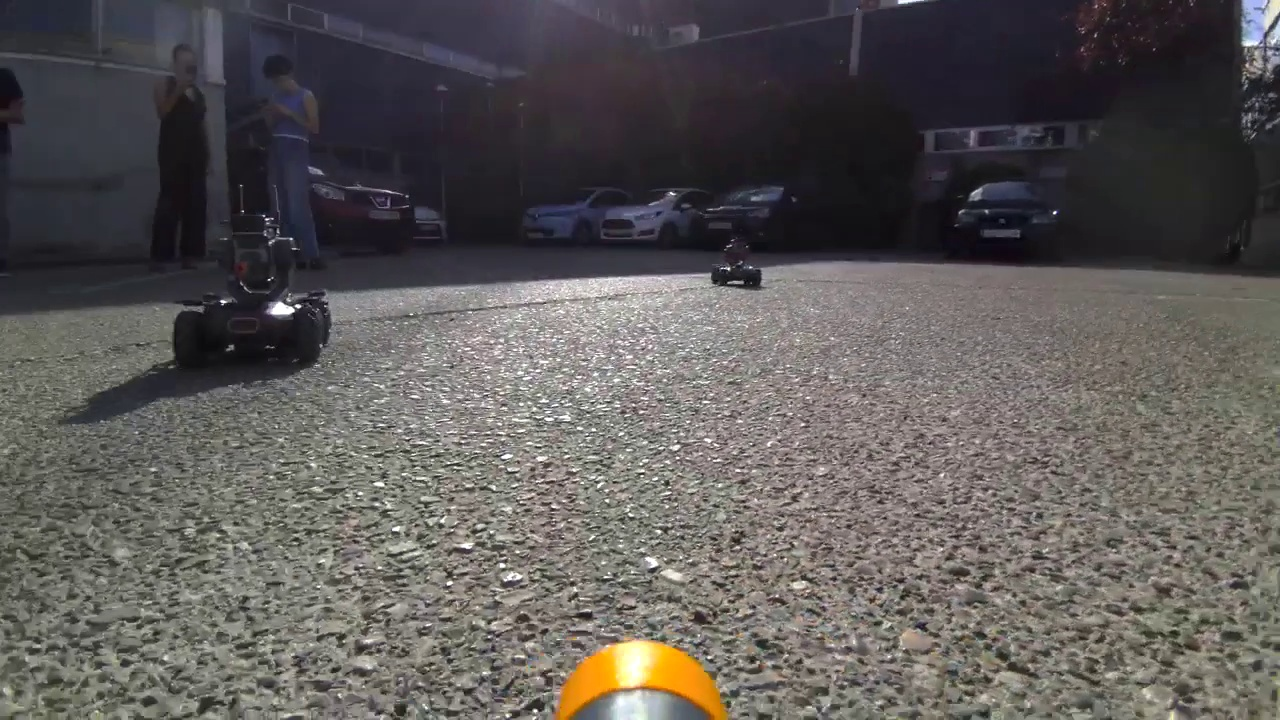robot: (169, 190, 345, 377), (709, 236, 778, 291)
